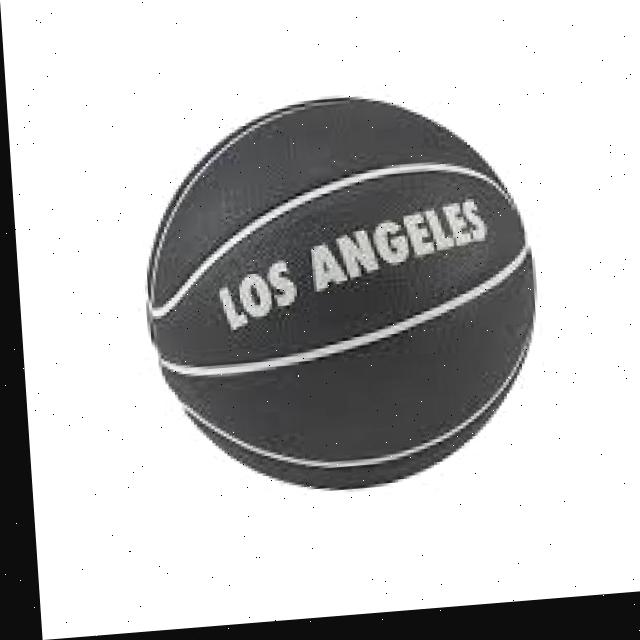Basketball: (137, 82, 547, 506)
